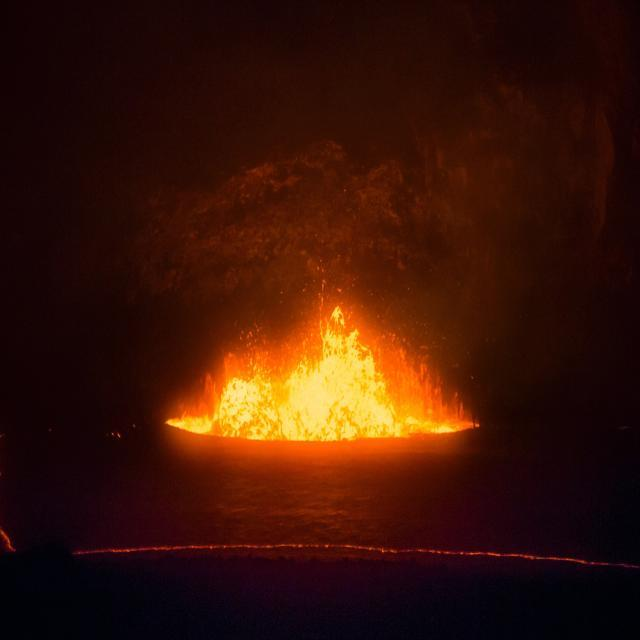Fire: (164, 310, 483, 434)
Smoke: (79, 0, 624, 296)
